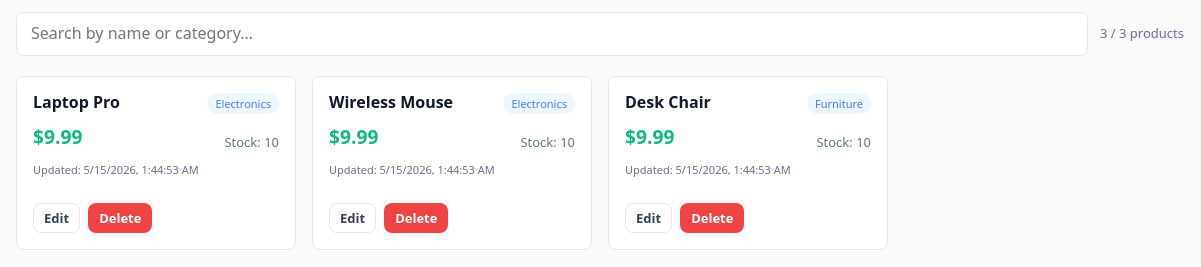
Test case: ProductList › shows no-match message when search has no results
The image size is (1201, 267).
Type "XXXXXXXXX" into the search field.
click(552, 34); type("XXXXXXXXX")  # box top-left (16, 12), bottom-right (1088, 56)
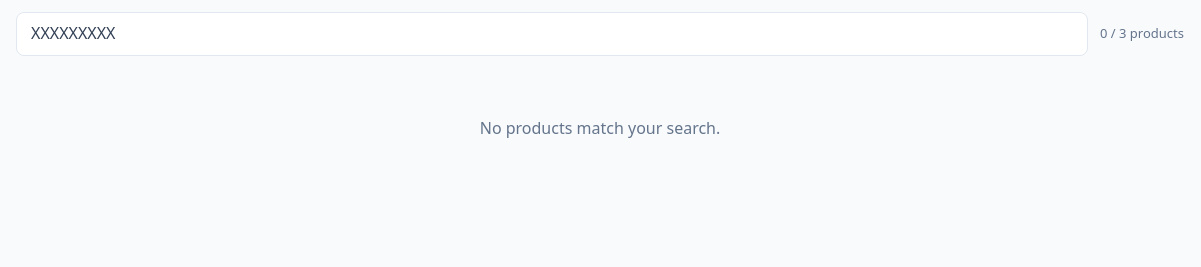
Expected: the text "No products match your search." is shown, top-left (480, 117), bottom-right (720, 139)
